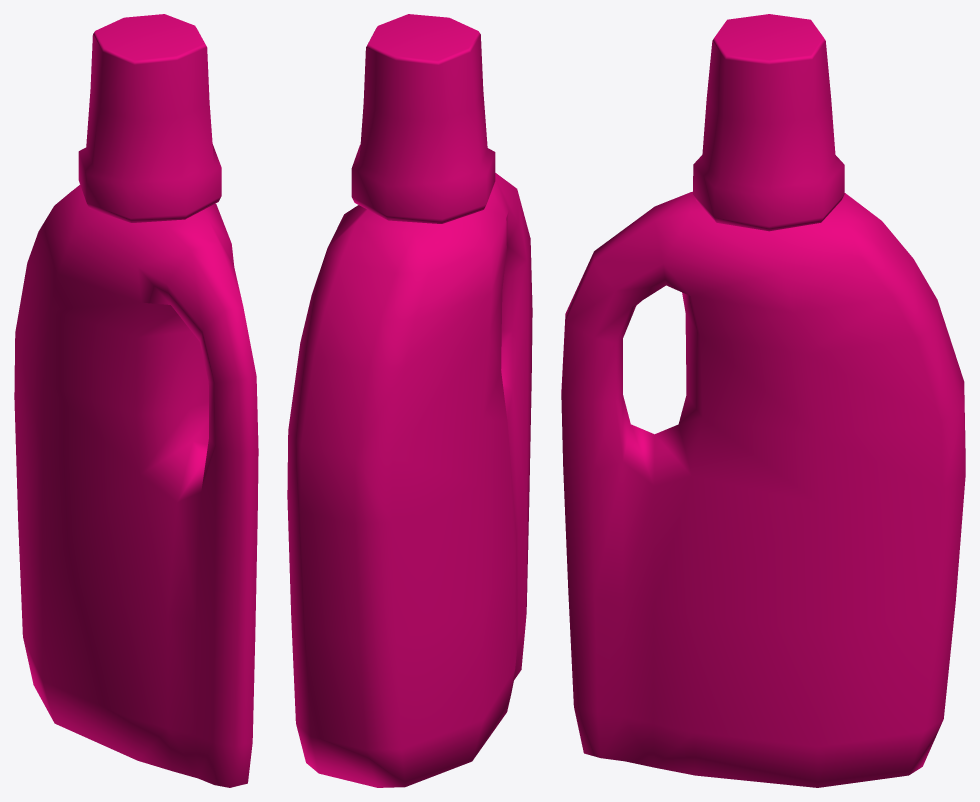
The model's file is Household_04_Lod1.fbx.
3 views of the same model, side by side, from view 1: azimuth 30°, elevation 25°; view 2: azimuth 150°, elevation 25°; view 3: azimuth 270°, elevation 25° (orthographic). The views are drawn at different scales.
Visible parts, largest first — view 1: Household_04_Lod1; view 2: Household_04_Lod1; view 3: Household_04_Lod1.
Boxes of the visible parts, x1,y1,x2,y2 form: Household_04_Lod1: (14, 14, 258, 787); Household_04_Lod1: (287, 14, 532, 787); Household_04_Lod1: (561, 14, 965, 787).
Bounding box in the file's own units: 9.19 × 36.34 × 18.58.
